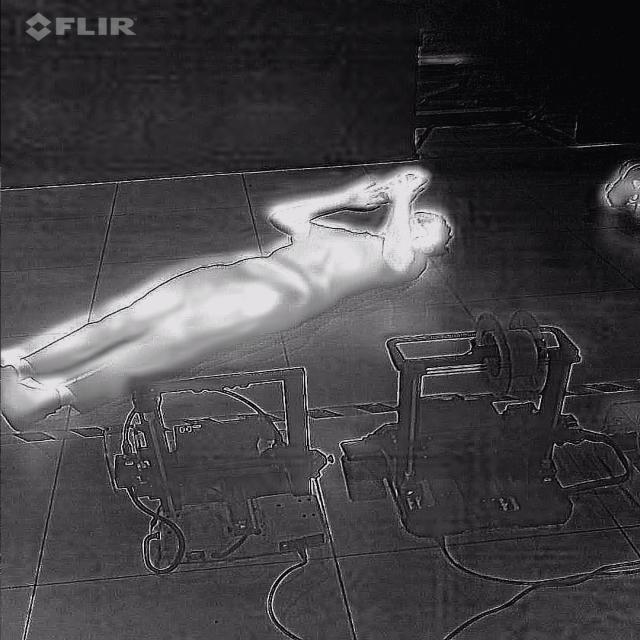Victim: (0, 159, 462, 436)
